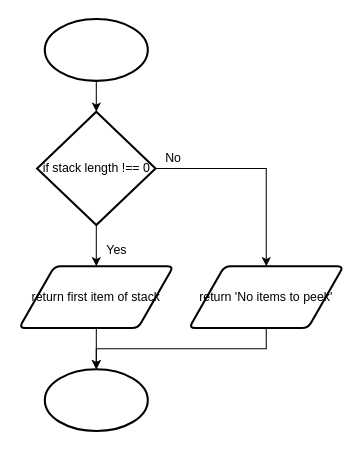
The diagram is 362 pixels wide and 449 high, and some of its shapes have lost their labels. Each missing label, with the centre of its shape:
"Start" belongs at point 95,49.
"Stop" belongs at point 95,400.
